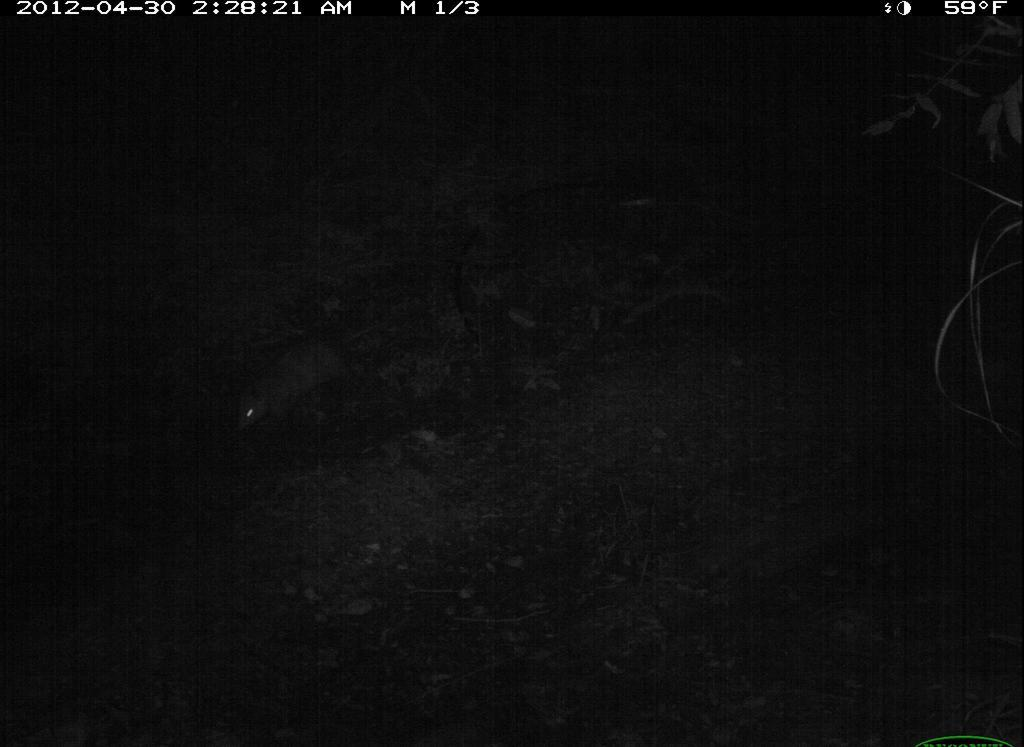opossum: (217, 313, 407, 440)
